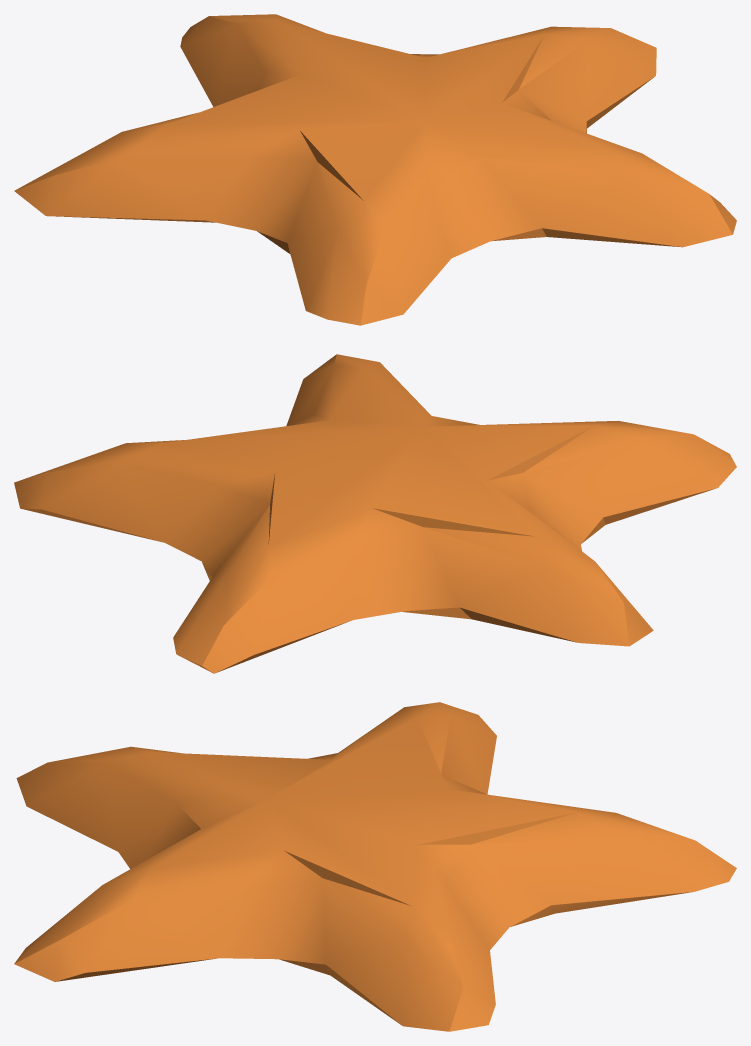
File: Starfish_02.fbx
3 renders of one model, top to bottom at view 1: azimuth 30°, elevation 25°; view 2: azimuth 150°, elevation 25°; view 3: azimuth 270°, elevation 25°, orthographic. The views are drawn at different scales.
Visible parts, largest first — view 1: Starfish_02; view 2: Starfish_02; view 3: Starfish_02.
Boxes of the visible parts, x1=… form: Starfish_02: x1=14, y1=14, x2=736, y2=325; Starfish_02: x1=14, y1=354, x2=736, y2=673; Starfish_02: x1=14, y1=702, x2=736, y2=1031.
Size of the model in its own units: 25.91 by 3.16 by 24.97.
